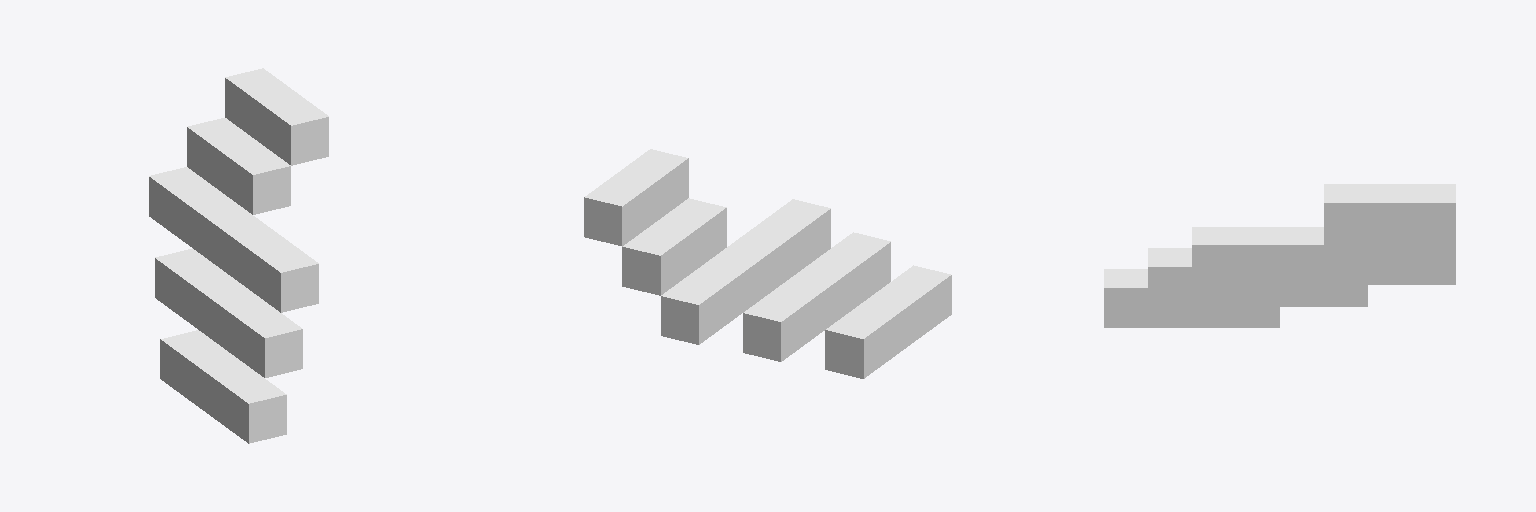
The model's file is YellowHouseParts-100.obj.
The picture shows the model from 3 angles: view 1: azimuth 30°, elevation 25°; view 2: azimuth 150°, elevation 25°; view 3: azimuth 270°, elevation 25°; orthographic projection.
Visible parts, largest first — view 1: object 1; view 2: object 1; view 3: object 1.
Boxes of the visible parts, x1=… form: object 1: x1=149, y1=68, x2=328, y2=443; object 1: x1=584, y1=149, x2=951, y2=378; object 1: x1=1104, y1=184, x2=1455, y2=327.
Size of the model in its own units: 0.5 by 0.5 by 0.8.